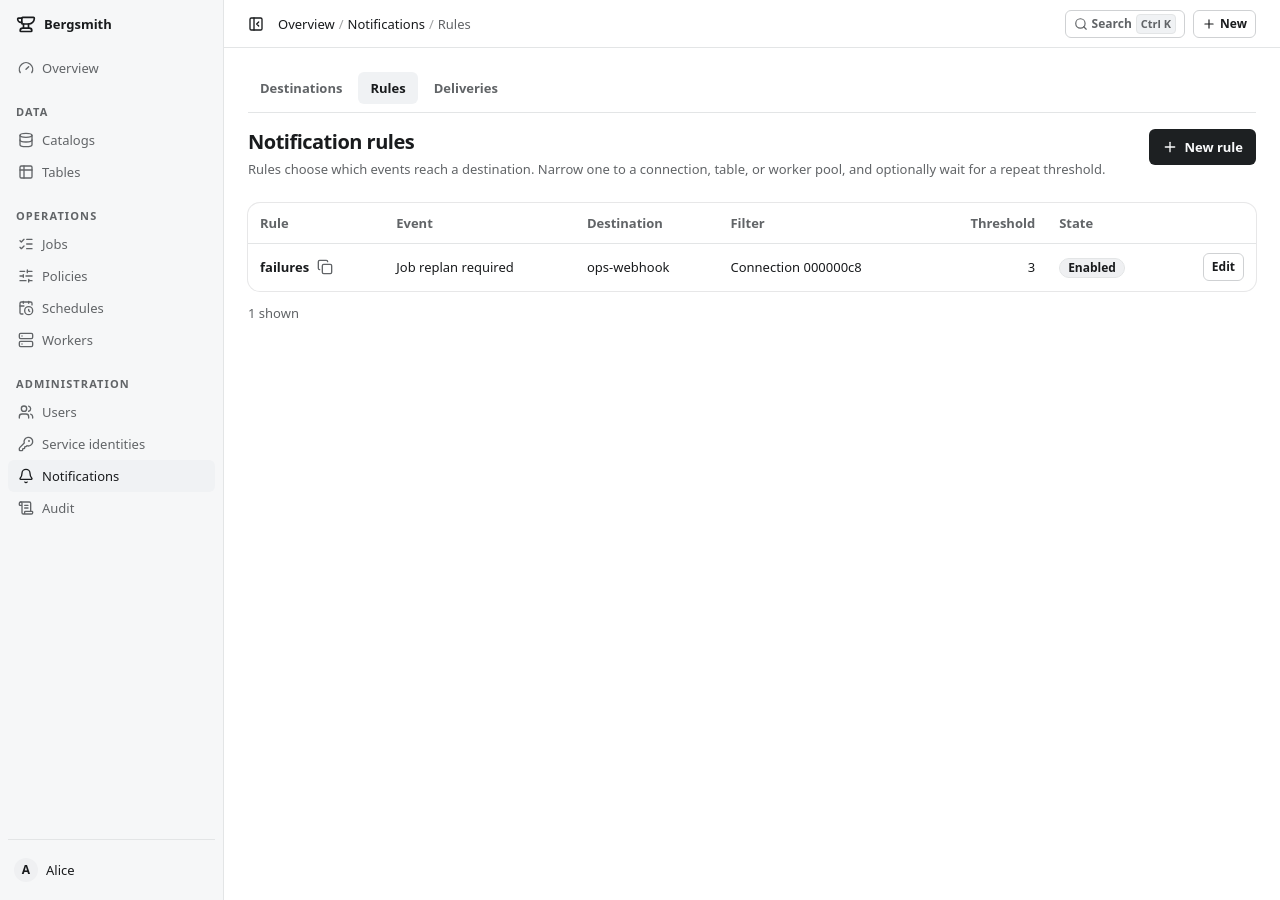
it: notification destinations › loads later destination pages into the rule selector
Click the button "New rule" at [1203, 147], box x1=1149 y1=129 x2=1256 y2=165
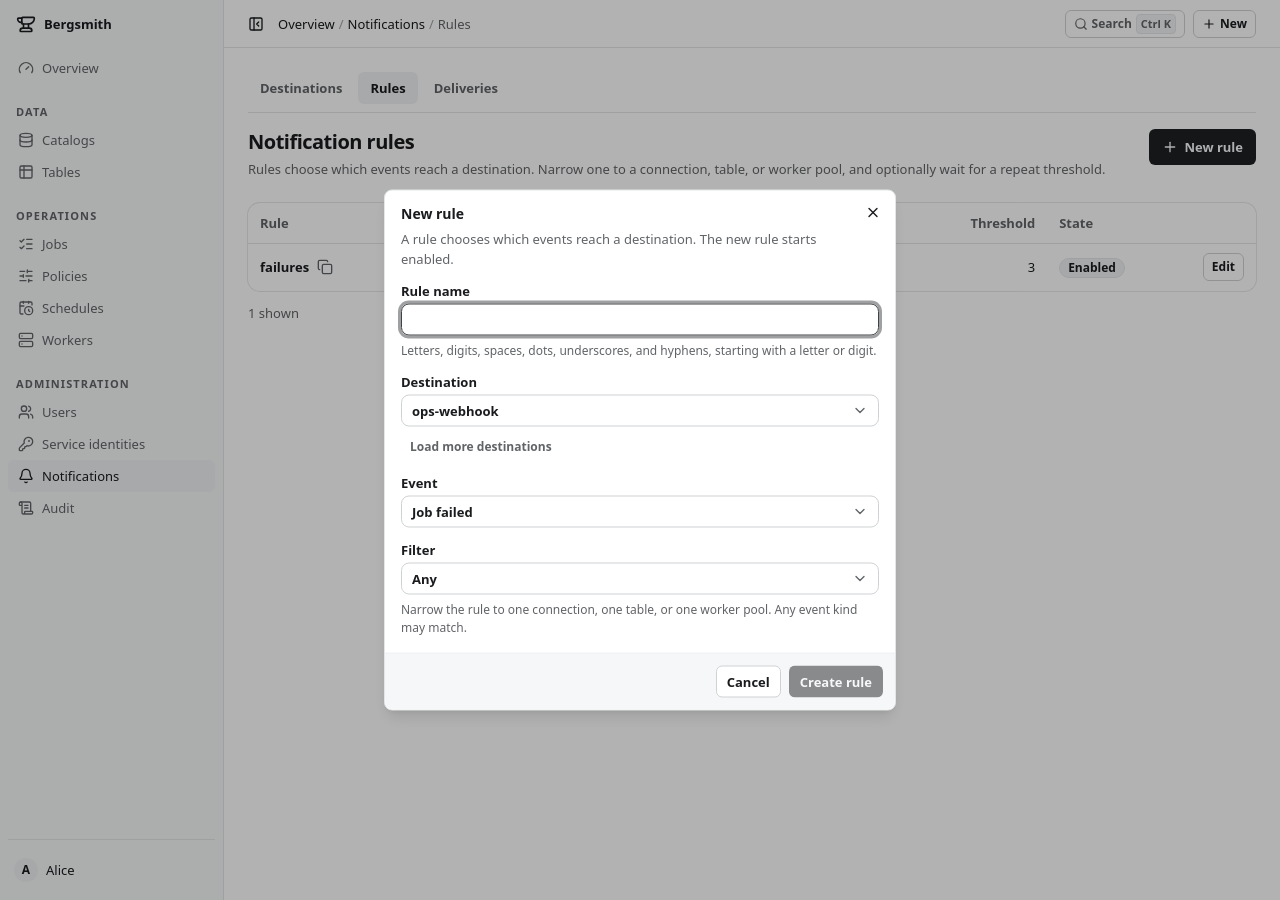
Click the button "Load more destinations" at [481, 446], box x1=401 y1=432 x2=561 y2=460
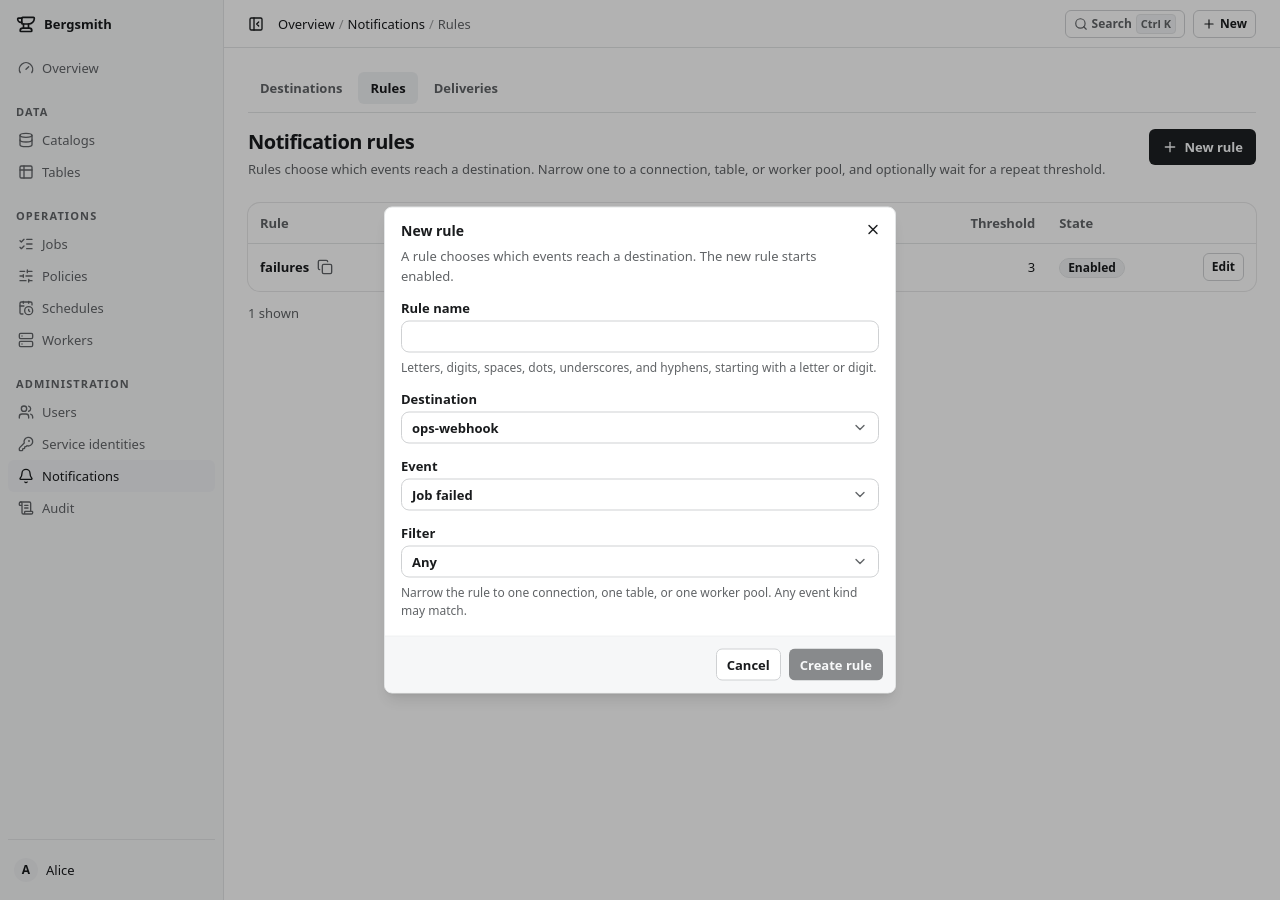
Click the dropdown named "Destination" at [455, 428], box x1=401 y1=412 x2=879 y2=444
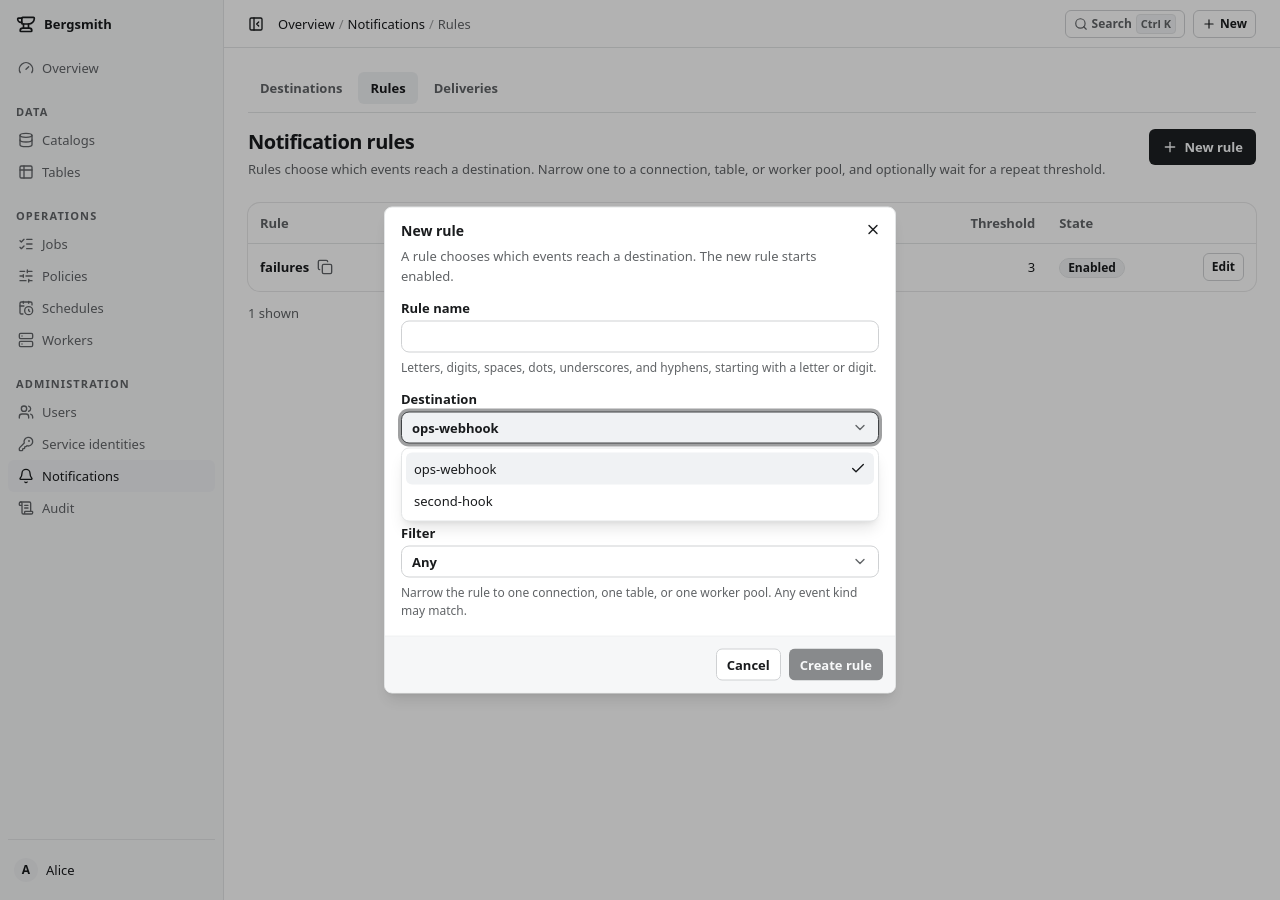
Now the option "second-hook" is shown, box x1=406 y1=484 x2=874 y2=516
